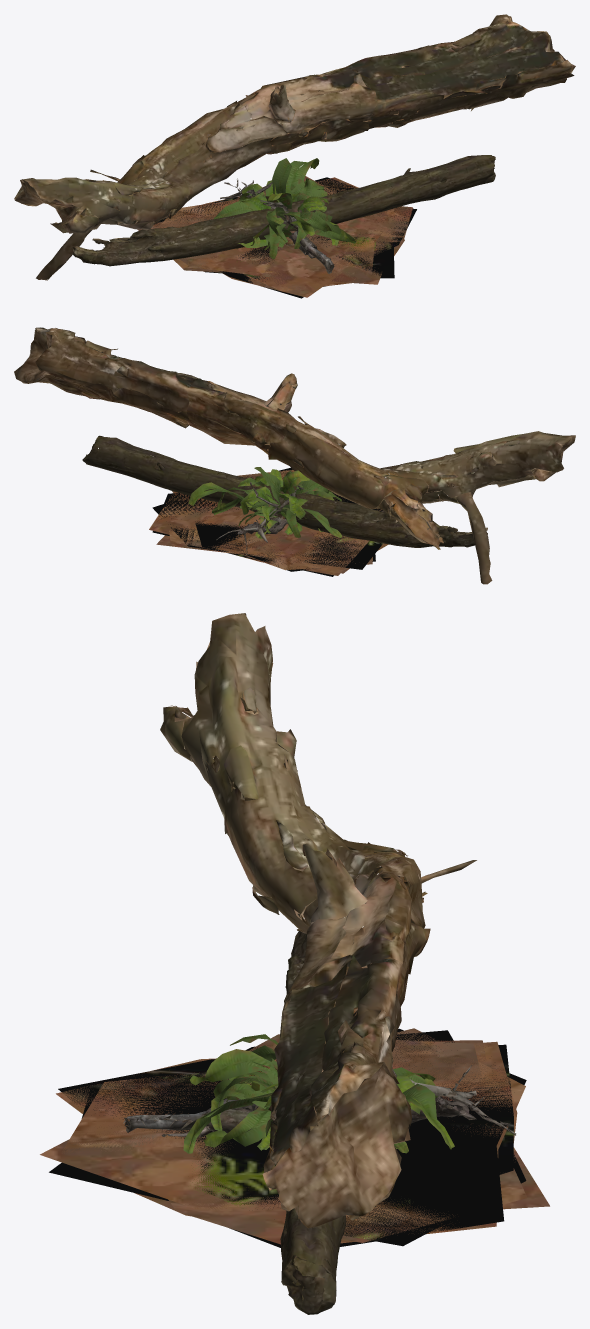
File: forest-ecology-real-v2.glb
3 views of the same model, one above another, from view 1: azimuth 30°, elevation 25°; view 2: azimuth 150°, elevation 25°; view 3: azimuth 270°, elevation 25° (orthographic). The views are drawn at different scales.
Visible parts, largest first — view 1: dead_tree_trunk_02_lod0, dead_tree_trunk_lod0, forest_litter_c_lod0, fern_02_b_lod0, forest_litter_d_lod0, forest_litter_b_lod0, fern_02_c_lod0, forest_litter_a_lod0, moss_01_a_lod0, moss_01_c_lod0, dry_branch_a_lod0, moss_01_b_lod0; view 2: dead_tree_trunk_02_lod0, dead_tree_trunk_lod0, forest_litter_b_lod0, fern_02_b_lod0, moss_01_a_lod0, forest_litter_a_lod0, fern_02_c_lod0, forest_litter_c_lod0, moss_01_b_lod0, moss_01_c_lod0, dry_branch_a_lod0, forest_litter_d_lod0 (+1 smaller); view 3: dead_tree_trunk_02_lod0, moss_01_b_lod0, forest_litter_d_lod0, forest_litter_b_lod0, forest_litter_a_lod0, dead_tree_trunk_lod0, forest_litter_c_lod0, moss_01_c_lod0, moss_01_a_lod0, fern_02_b_lod0, fern_02_c_lod0, dry_branch_a_lod0.
Part boxes in pixels (x1,y1,x2,y2): dead_tree_trunk_02_lod0: (14, 14, 575, 280); dead_tree_trunk_lod0: (72, 155, 495, 266); forest_litter_c_lod0: (158, 193, 412, 297); fern_02_b_lod0: (214, 158, 356, 259); forest_litter_d_lod0: (137, 176, 381, 284); forest_litter_b_lod0: (158, 177, 392, 291); fern_02_c_lod0: (238, 183, 338, 249); forest_litter_a_lod0: (156, 181, 404, 272); moss_01_a_lod0: (204, 187, 394, 278); moss_01_c_lod0: (154, 196, 416, 298); dry_branch_a_lod0: (220, 178, 334, 273); moss_01_b_lod0: (162, 177, 375, 286); dead_tree_trunk_02_lod0: (14, 327, 575, 584); dead_tree_trunk_lod0: (82, 435, 487, 547); forest_litter_b_lod0: (149, 479, 381, 570); fern_02_b_lod0: (188, 467, 341, 538); moss_01_a_lod0: (152, 467, 382, 569); forest_litter_a_lod0: (169, 469, 388, 570); fern_02_c_lod0: (212, 470, 323, 537); forest_litter_c_lod0: (172, 491, 369, 575); moss_01_b_lod0: (152, 492, 378, 571); moss_01_c_lod0: (195, 476, 385, 576); dry_branch_a_lod0: (216, 482, 308, 555); forest_litter_d_lod0: (156, 535, 349, 573); dead_tree_trunk_02_lod0: (160, 613, 476, 1228); moss_01_b_lod0: (81, 1028, 526, 1246); forest_litter_d_lod0: (40, 1040, 549, 1209); forest_litter_b_lod0: (62, 1028, 525, 1243); forest_litter_a_lod0: (134, 1034, 527, 1242); dead_tree_trunk_lod0: (280, 931, 345, 1314); forest_litter_c_lod0: (56, 1041, 517, 1244); moss_01_c_lod0: (58, 1044, 513, 1247); moss_01_a_lod0: (49, 1030, 526, 1246); fern_02_b_lod0: (183, 1045, 454, 1153); fern_02_c_lod0: (203, 1034, 435, 1148); dry_branch_a_lod0: (123, 1060, 516, 1135).
Size of what is drawn, in the model's own units: 4.05 by 1.06 by 1.68.
2 materials, 2 textured.
